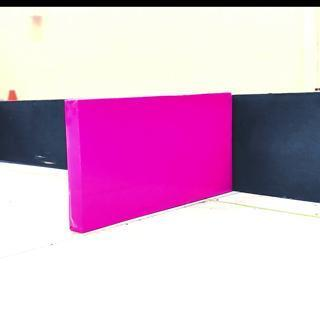xparking: (66, 102, 232, 214)
